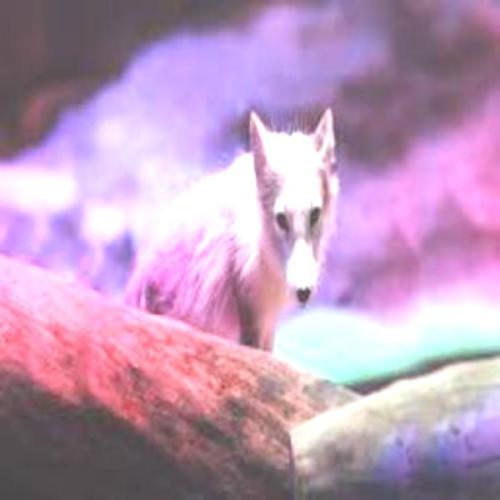arctic_fox-endangered: (125, 111, 342, 359)
